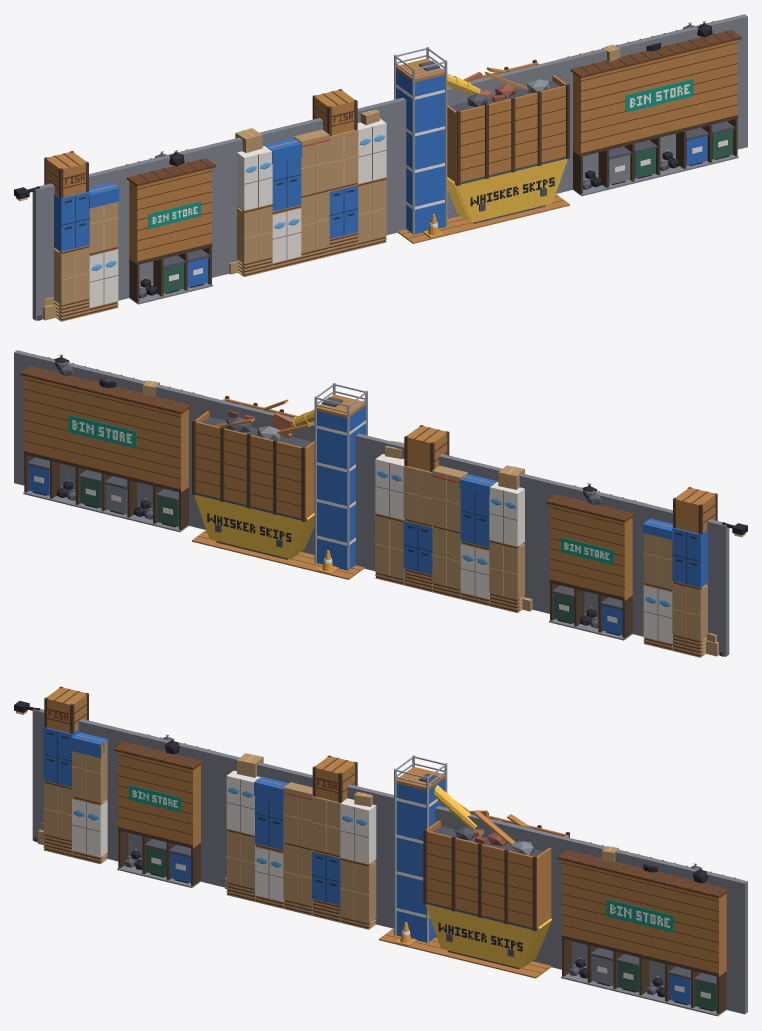
The model's file is CatCafe_Alley_Blocker_RowSkip.glb.
The picture shows the model from 3 angles, top to bottom: view 1: azimuth 30°, elevation 25°; view 2: azimuth 150°, elevation 25°; view 3: azimuth 330°, elevation 25°; orthographic projection.
Parts seen in each view (by area): view 1: CatCafe_Alley_Blocker_RowSkip_001_Blocker_Skip, CatCafe_Alley_Blocker_RowSkip_000_Blocker_Bins, CatCafe_Alley_Blocker_RowSkip_002_Blocker_Pallets, CatCafe_Alley_Blocker_RowSkip_003_Blocker_BinsShort, CatCafe_Alley_Blocker_RowSkip_004_Blocker_PalletsShort, CatCafe_Alley_Blocker_RowSkip_002_Blocker_Pallets_Barrier, CatCafe_Alley_Blocker_RowSkip_004_Blocker_PalletsShort_Barri, CatCafe_Alley_Blocker_RowSkip_001_Blocker_Skip_Barrier, CatCafe_Alley_Blocker_RowSkip_000_Blocker_Bins_Barrier, CatCafe_Alley_Blocker_RowSkip_003_Blocker_BinsShort_Barrier; view 2: CatCafe_Alley_Blocker_RowSkip_001_Blocker_Skip, CatCafe_Alley_Blocker_RowSkip_000_Blocker_Bins, CatCafe_Alley_Blocker_RowSkip_002_Blocker_Pallets, CatCafe_Alley_Blocker_RowSkip_003_Blocker_BinsShort, CatCafe_Alley_Blocker_RowSkip_004_Blocker_PalletsShort, CatCafe_Alley_Blocker_RowSkip_002_Blocker_Pallets_Barrier, CatCafe_Alley_Blocker_RowSkip_004_Blocker_PalletsShort_Barri, CatCafe_Alley_Blocker_RowSkip_000_Blocker_Bins_Barrier, CatCafe_Alley_Blocker_RowSkip_001_Blocker_Skip_Barrier, CatCafe_Alley_Blocker_RowSkip_003_Blocker_BinsShort_Barrier; view 3: CatCafe_Alley_Blocker_RowSkip_001_Blocker_Skip, CatCafe_Alley_Blocker_RowSkip_000_Blocker_Bins, CatCafe_Alley_Blocker_RowSkip_002_Blocker_Pallets, CatCafe_Alley_Blocker_RowSkip_003_Blocker_BinsShort, CatCafe_Alley_Blocker_RowSkip_004_Blocker_PalletsShort, CatCafe_Alley_Blocker_RowSkip_000_Blocker_Bins_Barrier, CatCafe_Alley_Blocker_RowSkip_002_Blocker_Pallets_Barrier, CatCafe_Alley_Blocker_RowSkip_004_Blocker_PalletsShort_Barri, CatCafe_Alley_Blocker_RowSkip_003_Blocker_BinsShort_Barrier, CatCafe_Alley_Blocker_RowSkip_001_Blocker_Skip_Barrier.
Boxes of the visible parts, left/top/right/bottom form: CatCafe_Alley_Blocker_RowSkip_001_Blocker_Skip: left=394, top=47, right=569, bottom=243; CatCafe_Alley_Blocker_RowSkip_000_Blocker_Bins: left=558, top=20, right=741, bottom=196; CatCafe_Alley_Blocker_RowSkip_002_Blocker_Pallets: left=229, top=89, right=386, bottom=276; CatCafe_Alley_Blocker_RowSkip_003_Blocker_BinsShort: left=114, top=148, right=215, bottom=304; CatCafe_Alley_Blocker_RowSkip_004_Blocker_PalletsShort: left=43, top=151, right=119, bottom=321; CatCafe_Alley_Blocker_RowSkip_002_Blocker_Pallets_Barrier: left=219, top=100, right=397, bottom=275; CatCafe_Alley_Blocker_RowSkip_004_Blocker_PalletsShort_Barri: left=32, top=165, right=128, bottom=320; CatCafe_Alley_Blocker_RowSkip_001_Blocker_Skip_Barrier: left=394, top=57, right=572, bottom=232; CatCafe_Alley_Blocker_RowSkip_000_Blocker_Bins_Barrier: left=570, top=14, right=747, bottom=189; CatCafe_Alley_Blocker_RowSkip_003_Blocker_BinsShort_Barrier: left=126, top=142, right=222, bottom=297; CatCafe_Alley_Blocker_RowSkip_001_Blocker_Skip: left=192, top=383, right=367, bottom=579; CatCafe_Alley_Blocker_RowSkip_000_Blocker_Bins: left=20, top=354, right=203, bottom=532; CatCafe_Alley_Blocker_RowSkip_002_Blocker_Pallets: left=375, top=425, right=532, bottom=612; CatCafe_Alley_Blocker_RowSkip_003_Blocker_BinsShort: left=546, top=483, right=647, bottom=640; CatCafe_Alley_Blocker_RowSkip_004_Blocker_PalletsShort: left=642, top=487, right=718, bottom=657; CatCafe_Alley_Blocker_RowSkip_002_Blocker_Pallets_Barrier: left=364, top=436, right=542, bottom=611; CatCafe_Alley_Blocker_RowSkip_004_Blocker_PalletsShort_Barri: left=633, top=501, right=729, bottom=656; CatCafe_Alley_Blocker_RowSkip_000_Blocker_Bins_Barrier: left=14, top=350, right=191, bottom=525; CatCafe_Alley_Blocker_RowSkip_001_Blocker_Skip_Barrier: left=189, top=393, right=367, bottom=568; CatCafe_Alley_Blocker_RowSkip_003_Blocker_BinsShort_Barrier: left=539, top=478, right=635, bottom=633; CatCafe_Alley_Blocker_RowSkip_001_Blocker_Skip: left=379, top=755, right=569, bottom=978; CatCafe_Alley_Blocker_RowSkip_000_Blocker_Bins: left=557, top=840, right=741, bottom=1016; CatCafe_Alley_Blocker_RowSkip_002_Blocker_Pallets: left=225, top=753, right=376, bottom=929; CatCafe_Alley_Blocker_RowSkip_003_Blocker_BinsShort: left=114, top=732, right=215, bottom=887; CatCafe_Alley_Blocker_RowSkip_004_Blocker_PalletsShort: left=38, top=686, right=108, bottom=864; CatCafe_Alley_Blocker_RowSkip_000_Blocker_Bins_Barrier: left=569, top=838, right=747, bottom=1014; CatCafe_Alley_Blocker_RowSkip_002_Blocker_Pallets_Barrier: left=219, top=753, right=393, bottom=928; CatCafe_Alley_Blocker_RowSkip_004_Blocker_PalletsShort_Barri: left=32, top=707, right=128, bottom=861; CatCafe_Alley_Blocker_RowSkip_003_Blocker_BinsShort_Barrier: left=126, top=730, right=221, bottom=885; CatCafe_Alley_Blocker_RowSkip_001_Blocker_Skip_Barrier: left=435, top=806, right=571, bottom=969.
Size of the model in its own units: 66.6 by 14.6 by 5.64.
Materials: 1 (1 with a texture image).
